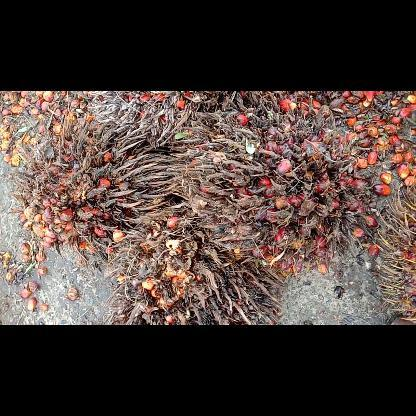Terlalu masak: (168, 92, 378, 280), (9, 111, 174, 275), (102, 206, 288, 324), (69, 92, 226, 150)
